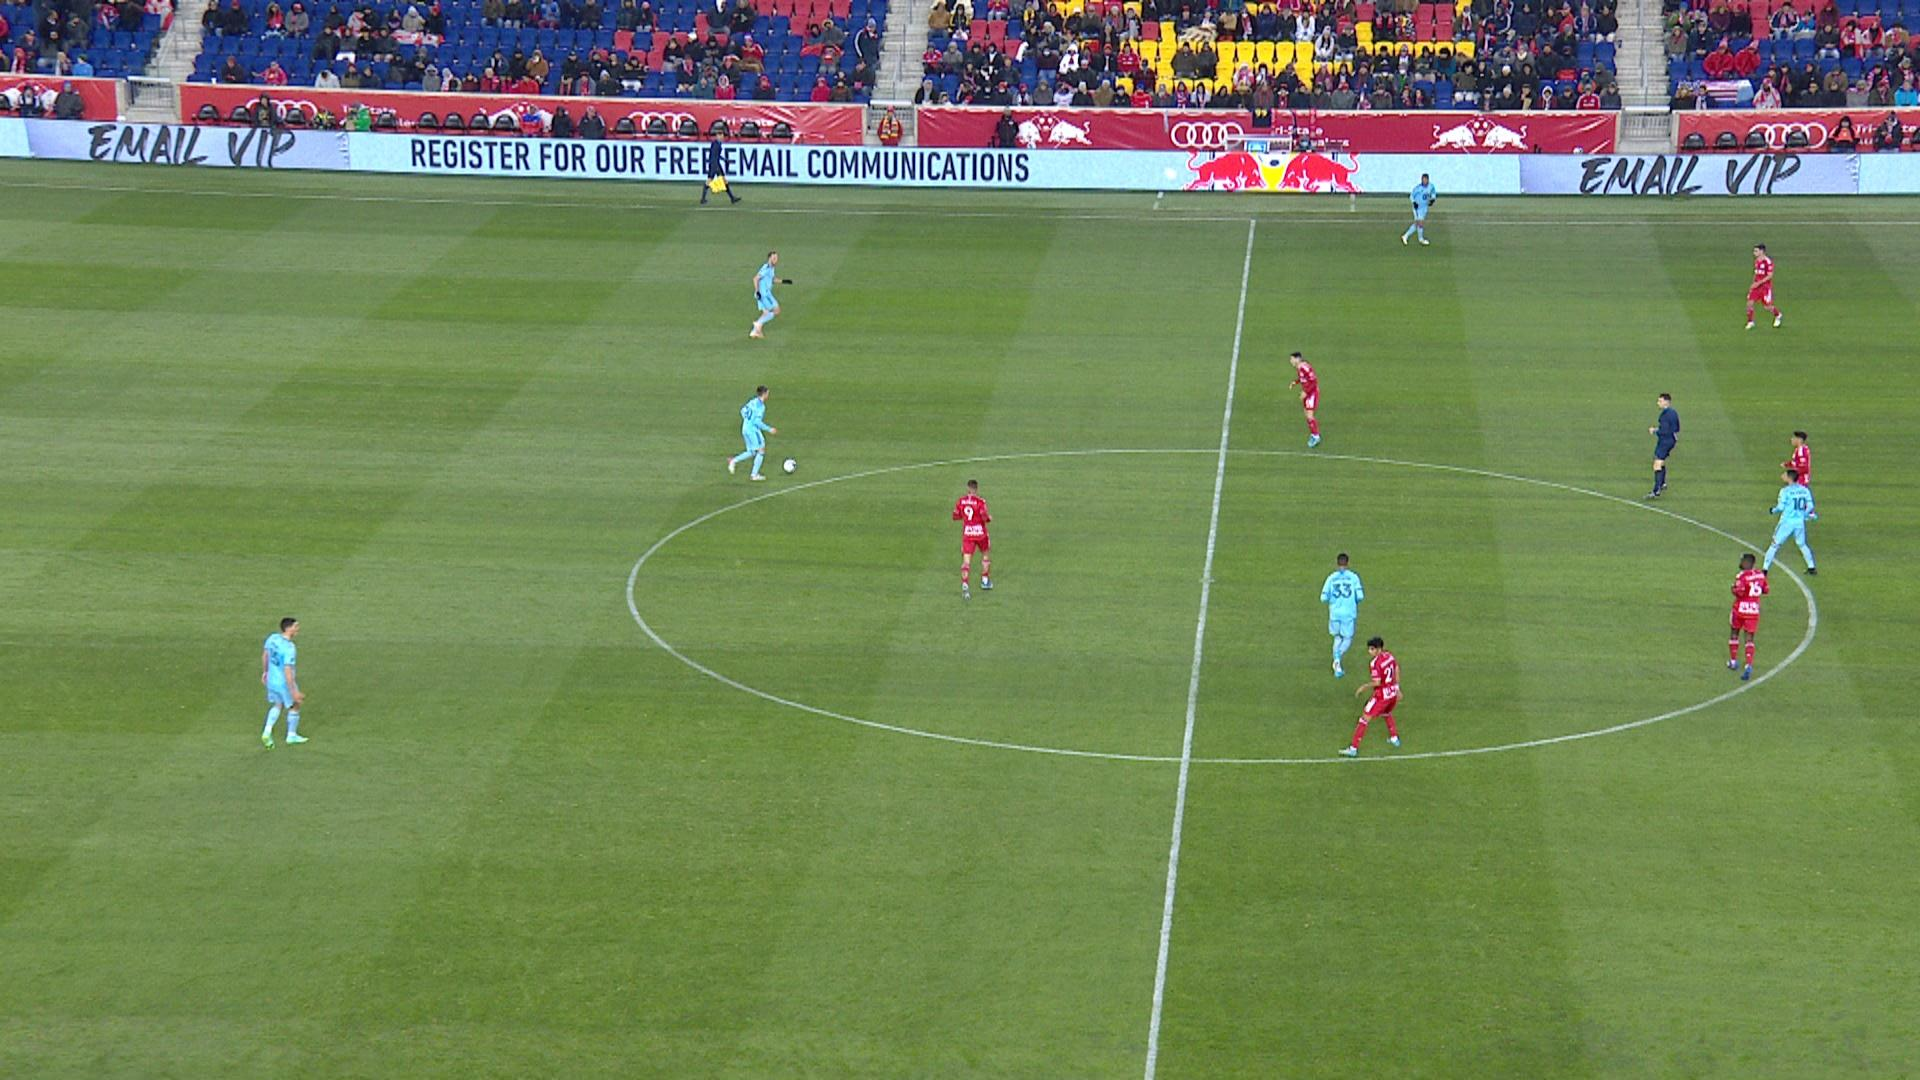football: (783, 458, 798, 473)
